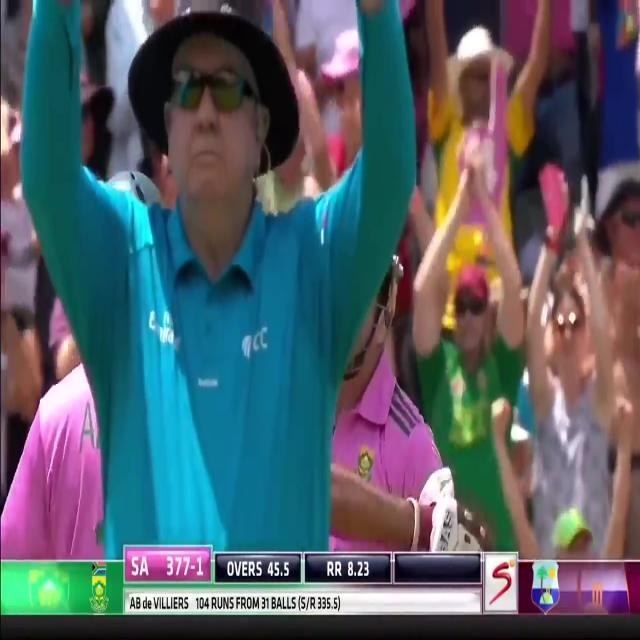Ball: (283, 221, 490, 555)
Umpire: (16, 0, 424, 561)
